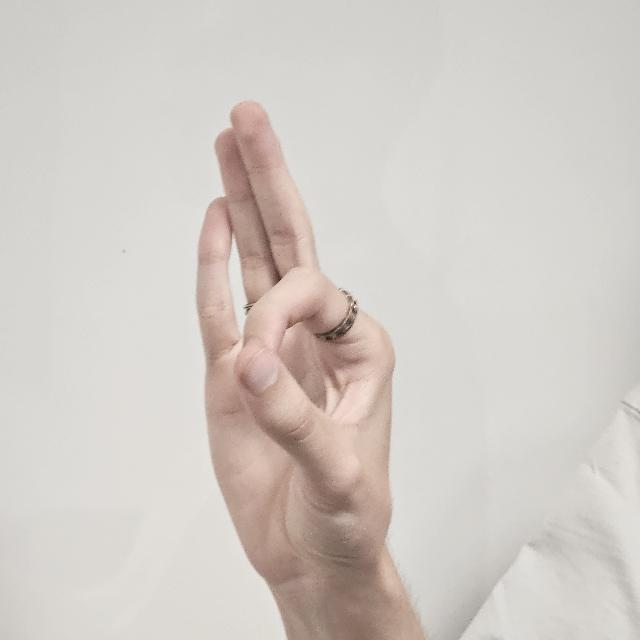Bolinha: (190, 95, 398, 610)
